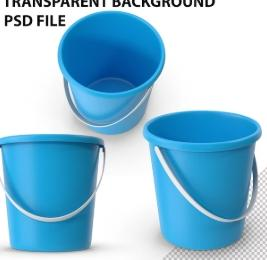SEAU: (140, 109, 267, 257), (47, 3, 160, 133), (1, 128, 111, 260)
